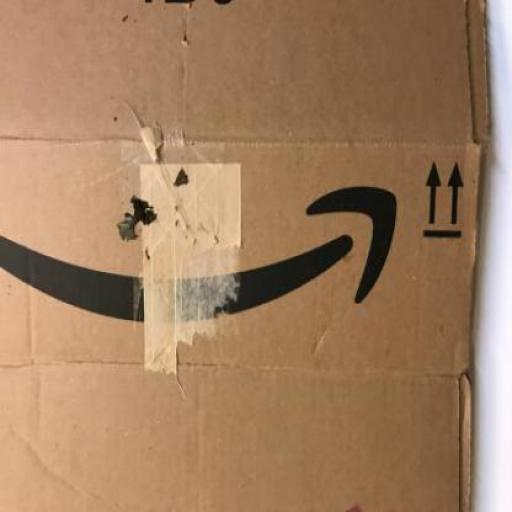cardboard: (0, 0, 490, 511)
